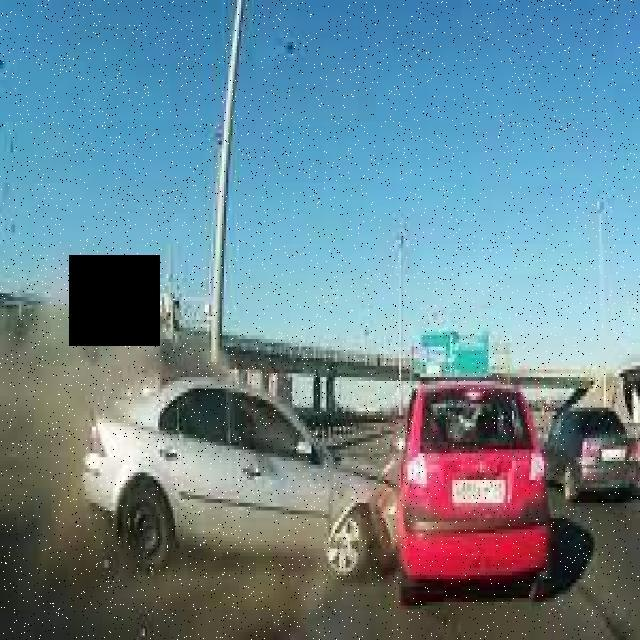moderate: (78, 354, 560, 602)
